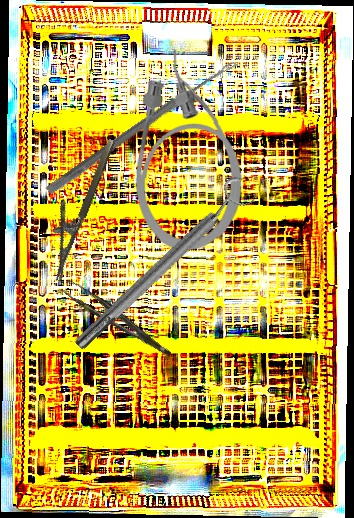Cannula: (133, 48, 245, 252)
Fixation Ring: (64, 171, 261, 359)
Needle Holder: (32, 130, 118, 284)
Surgical Spoon: (45, 56, 239, 197)
Tissue Forceps: (61, 274, 172, 369)
